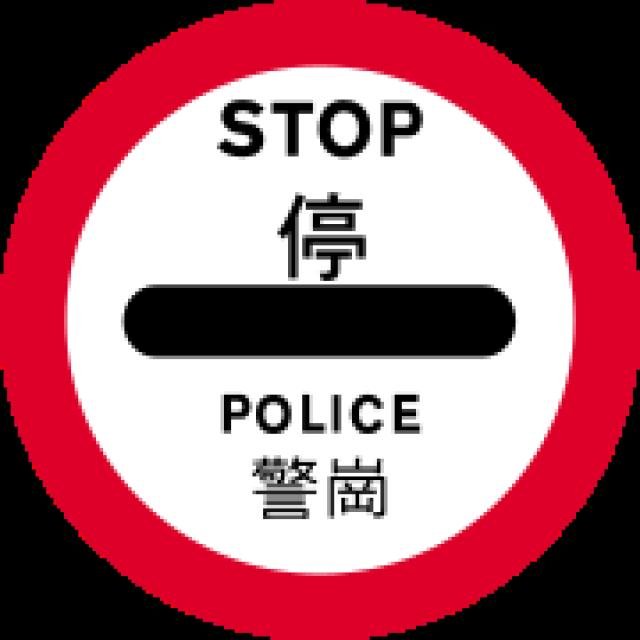Traffic sign: (22, 21, 612, 603)
